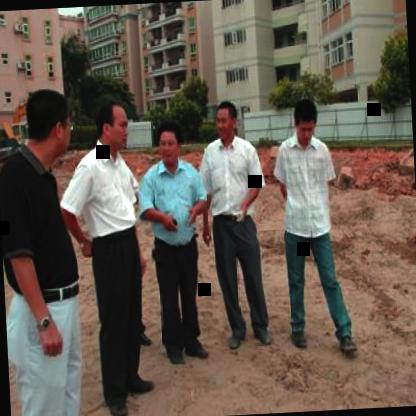head: (22, 82, 76, 166), (92, 94, 134, 156), (290, 94, 322, 147), (152, 118, 184, 166), (212, 97, 241, 144)
